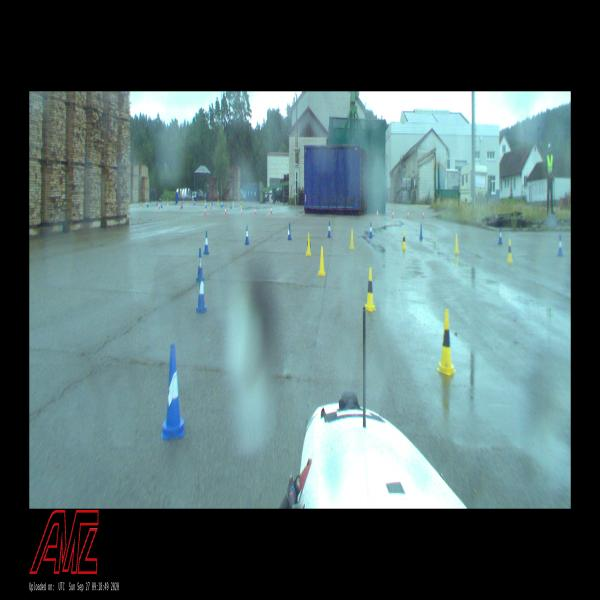blue_cone: (161, 344, 186, 438), (195, 269, 208, 313), (196, 249, 205, 281), (204, 231, 210, 254), (558, 234, 562, 256), (245, 226, 249, 244), (498, 227, 502, 244), (288, 223, 292, 240), (419, 223, 423, 240), (369, 222, 373, 238), (327, 222, 331, 237), (230, 202, 232, 209), (161, 202, 163, 208), (147, 201, 149, 207), (156, 201, 158, 206), (221, 200, 222, 207), (222, 199, 223, 206), (182, 202, 183, 208), (194, 200, 195, 204)
orange_cone: (204, 206, 206, 216), (225, 206, 227, 215), (392, 210, 394, 218), (210, 202, 212, 210), (407, 211, 409, 217), (158, 203, 160, 209), (255, 207, 256, 215), (271, 207, 272, 214), (423, 212, 424, 219), (377, 209, 378, 216), (241, 208, 242, 215)
unknown_cone: (180, 203, 182, 209)
yellow_cone: (437, 310, 453, 374), (365, 267, 376, 312), (318, 246, 326, 276), (506, 240, 513, 262), (306, 234, 311, 255), (454, 234, 459, 253), (402, 231, 406, 250), (350, 230, 354, 249), (140, 202, 142, 208), (186, 199, 188, 204), (233, 200, 234, 207), (168, 199, 169, 205)
